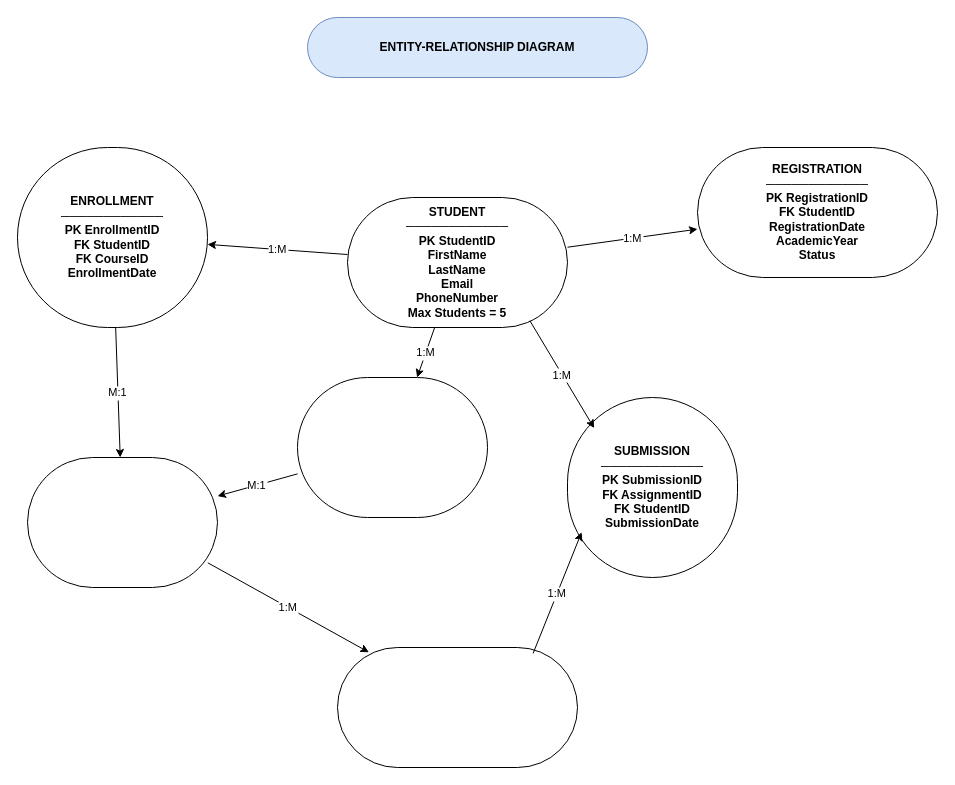
The diagram is 955 pixels wide and 785 high, and some of its shapes have lost their labels. Here are the shapes that lost their labels. From the top down, the box of each, then its label:
(296, 376, 488, 518): RESULT ──────────── PK ResultID FK StudentID FK CourseID Marks Grade
(26, 456, 218, 588): COURSE ──────────── PK CourseID CourseName CourseCode Credits
(336, 646, 578, 768): ASSIGNMENT ──────────── PK AssignmentID FK CourseID AssignmentTitle DueDate
